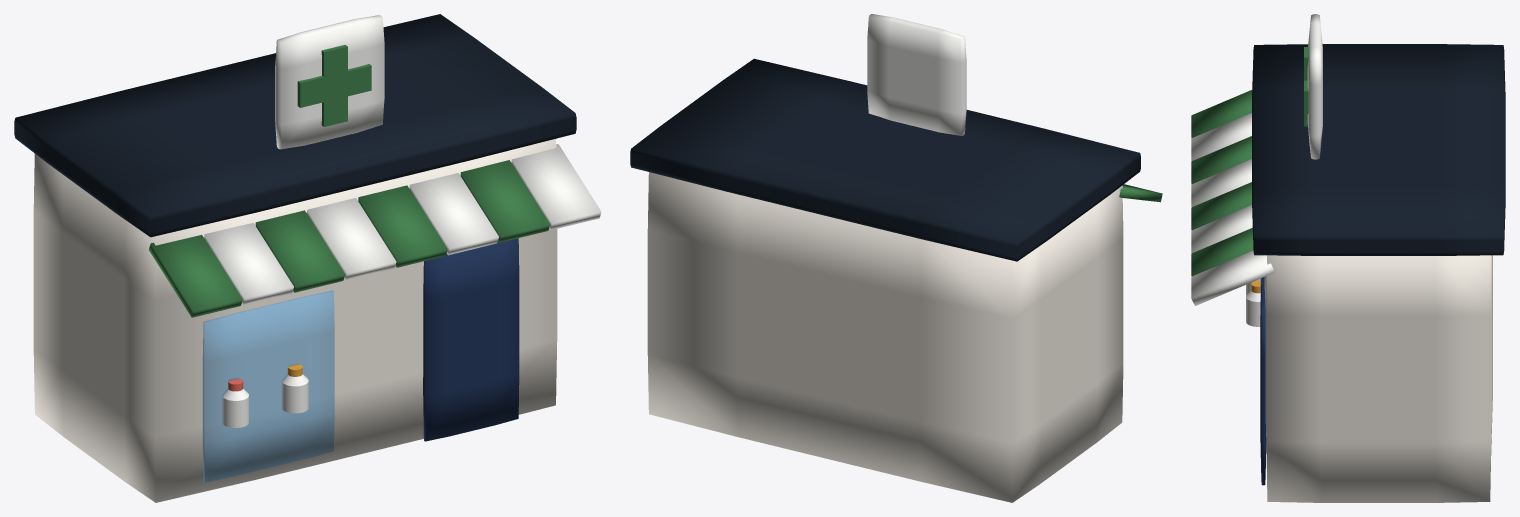
File: shops.glb
3 views of the same model, side by side, from view 1: azimuth 30°, elevation 25°; view 2: azimuth 150°, elevation 25°; view 3: azimuth 270°, elevation 25° (orthographic). The views are drawn at different scales.
Parts seen in each view (by area): view 1: shops; view 2: shops; view 3: shops.
Part boxes in pixels (left/top/right/bottom): shops: left=14, top=14, right=601, bottom=502; shops: left=630, top=14, right=1162, bottom=502; shops: left=1191, top=14, right=1505, bottom=502.
Bounding box in the file's own units: 3.6 × 3.3 × 2.48.
